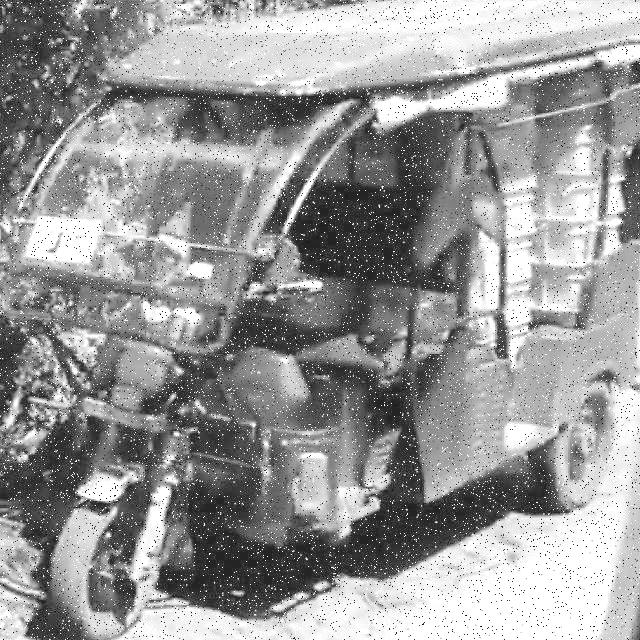Toto: (11, 1, 639, 640)
